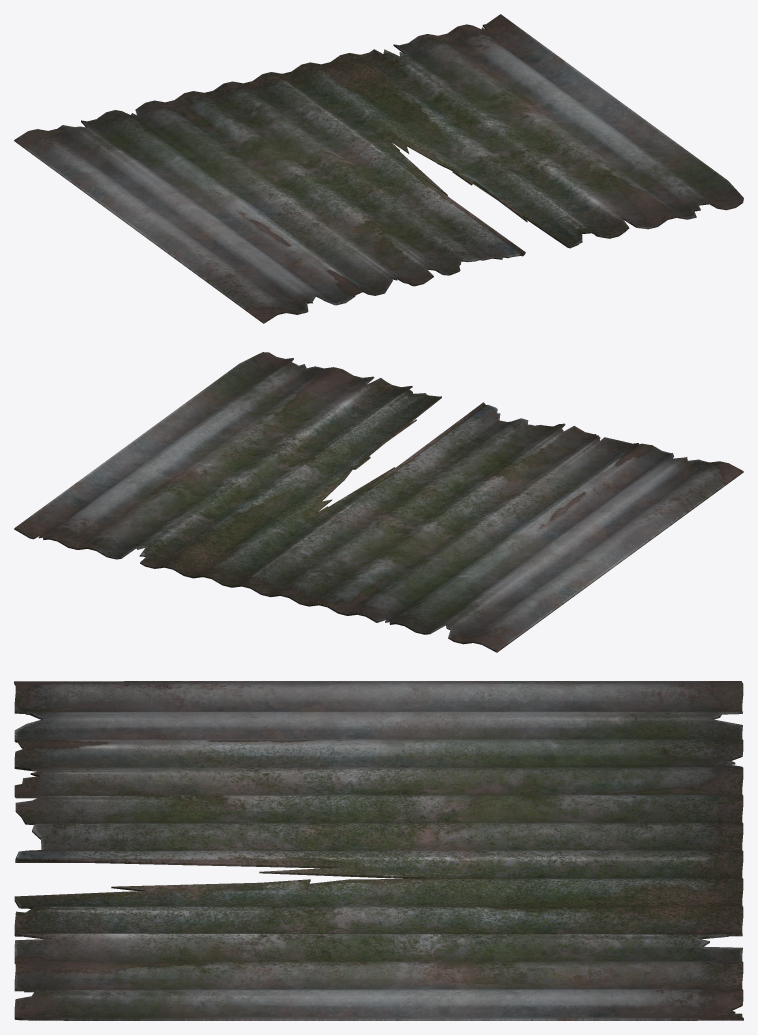
The model's file is SM_Toles_ToleLarge.fbx.
3 views of the same model, one above another, from view 1: azimuth 30°, elevation 25°; view 2: azimuth 150°, elevation 25°; view 3: azimuth 270°, elevation 25° (orthographic). The views are drawn at different scales.
Visible parts, largest first — view 1: SM_Toles_ToleLarge_LOD0; view 2: SM_Toles_ToleLarge_LOD0; view 3: SM_Toles_ToleLarge_LOD0.
Part boxes in pixels (x1=…): SM_Toles_ToleLarge_LOD0: x1=14, y1=14, x2=743, y2=323; SM_Toles_ToleLarge_LOD0: x1=14, y1=352, x2=743, y2=652; SM_Toles_ToleLarge_LOD0: x1=14, y1=681, x2=743, y2=1020.
Size of the model in its own units: 368 by 327 by 5.77.
